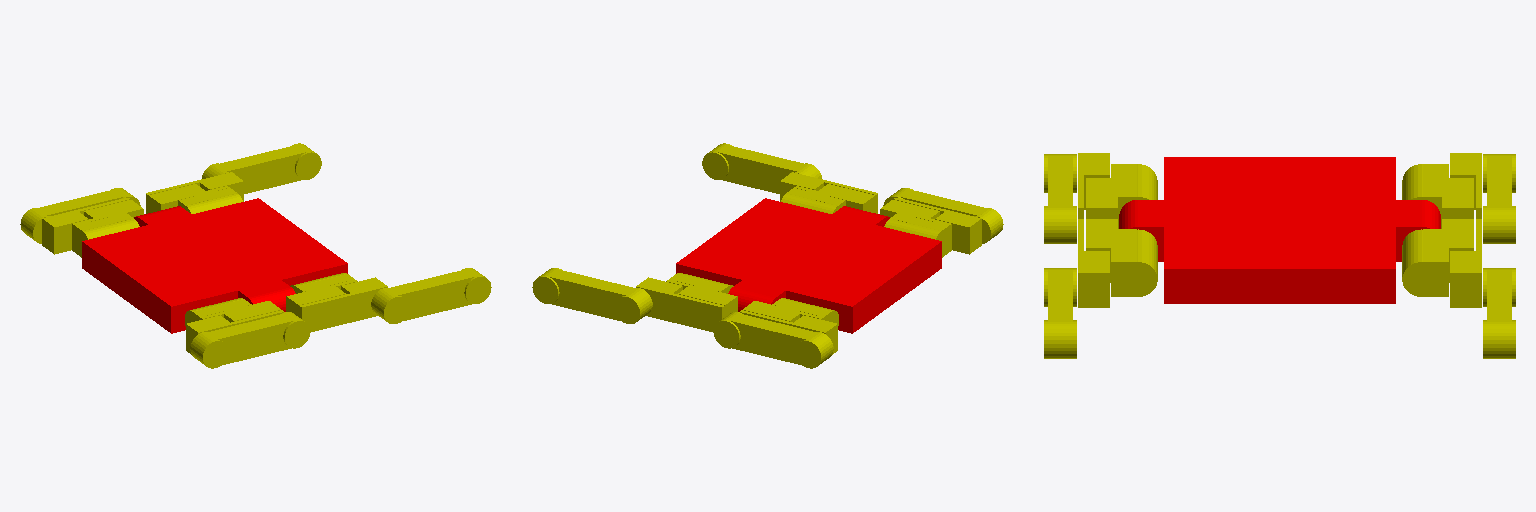
--- Render facts (derived) ---
The picture shows the robot from 3 angles, left to right: view 1: azimuth 30°, elevation 25°; view 2: azimuth 150°, elevation 25°; view 3: azimuth 270°, elevation 25°; orthographic projection.
Robot: cricket_robot — 46 links, 45 joints (4 revolute, 20 continuous, 21 fixed); root link base_link; default pose: every joint at zero.
Visible links, largest first — view 1: base_link, l_front_track, l_back_track, r_front_track, l_front_knee_base, r_back_knee_box, l_front_knee_box, r_back_track, r_front_shoulder2_box, l_back_starts_track, l_front_starts_track, l_front_shoulder2_box (+10 smaller); view 2: base_link, r_front_track, r_back_track, l_front_track, r_front_knee_base, l_back_knee_box, r_front_knee_box, l_back_track, l_front_shoulder2_box, r_back_starts_track, r_front_starts_track, r_front_shoulder2_box (+10 smaller); view 3: base_link, r_front_knee_box, l_front_knee_box, r_front_shoulder_cylinder, l_front_shoulder_cylinder, r_back_shoulder2_box, l_back_shoulder2_box, r_front_track, r_back_track, l_front_track, l_back_track, r_front_ends_track (+15 smaller).
Boxes of the visible links, x1=… form: base_link: x1=82, y1=198, x2=347, y2=333; l_front_track: x1=386, y1=269, x2=475, y2=320; l_back_track: x1=205, y1=313, x2=295, y2=365; r_front_track: x1=216, y1=145, x2=306, y2=193; l_front_knee_base: x1=299, y1=293, x2=353, y2=332; r_back_knee_box: x1=42, y1=210, x2=88, y2=254; l_front_knee_box: x1=341, y1=277, x2=387, y2=321; r_back_track: x1=36, y1=189, x2=125, y2=215; r_front_shoulder2_box: x1=148, y1=184, x2=207, y2=212; l_back_starts_track: x1=190, y1=332, x2=228, y2=368; l_front_starts_track: x1=371, y1=288, x2=409, y2=323; l_front_shoulder2_box: x1=286, y1=285, x2=345, y2=316; base_link: x1=676, y1=198, x2=941, y2=333; r_front_track: x1=548, y1=269, x2=637, y2=320; r_back_track: x1=728, y1=313, x2=818, y2=365; l_front_track: x1=717, y1=145, x2=807, y2=193; r_front_knee_base: x1=670, y1=293, x2=724, y2=332; l_back_knee_box: x1=935, y1=210, x2=981, y2=254; r_front_knee_box: x1=636, y1=277, x2=682, y2=321; l_back_track: x1=898, y1=189, x2=987, y2=215; l_front_shoulder2_box: x1=816, y1=184, x2=875, y2=212; r_back_starts_track: x1=795, y1=332, x2=833, y2=368; r_front_starts_track: x1=614, y1=288, x2=652, y2=323; r_front_shoulder2_box: x1=678, y1=285, x2=737, y2=316; base_link: x1=1164, y1=157, x2=1395, y2=303; r_front_knee_box: x1=1450, y1=251, x2=1481, y2=307; l_front_knee_box: x1=1078, y1=251, x2=1109, y2=307; r_front_shoulder_cylinder: x1=1402, y1=229, x2=1440, y2=296; l_front_shoulder_cylinder: x1=1119, y1=229, x2=1157, y2=296; r_back_shoulder2_box: x1=1442, y1=178, x2=1473, y2=218; l_back_shoulder2_box: x1=1086, y1=178, x2=1117, y2=218; r_front_track: x1=1487, y1=270, x2=1511, y2=321; r_back_track: x1=1487, y1=156, x2=1511, y2=207; l_front_track: x1=1048, y1=270, x2=1072, y2=321; l_back_track: x1=1048, y1=156, x2=1072, y2=207; r_front_ends_track: x1=1483, y1=320, x2=1515, y2=358.
Size in the robot's own frame: 0.67 by 0.732 by 0.06 metres.
Geometry: primitives only (box / cylinder / sphere), no mesh files.

URDF robot description (cricket_robot):
<?xml version="1.0" encoding="utf-8"?>
<!-- =================================================================================== -->
<!-- |    This document was autogenerated by xacro from cricket_robot.urdf.xacro       | -->
<!-- |    EDITING THIS FILE BY HAND IS NOT RECOMMENDED                                 | -->
<!-- =================================================================================== -->
<robot name="cricket_robot" xmlns:controller="http://playerstage.sourceforge.net/gazebo/xmlschema/#controller" xmlns:interface="http://playerstage.sourceforge.net/gazebo/xmlschema/#interface" xmlns:sensor="http://playerstage.sourceforge.net/gazebo/xmlschema/#sensor">
  <!-- xmlns:xacro="http://ros.org/wiki/xacro"> -->
  <material name="yellow">
    <color rgba="0.8 0.8 0 1"/>
  </material>
  <material name="red">
    <color rgba="1 0 0 1"/>
  </material>
  <!-- main body -->
  <link name="base_link">
    <visual>
      <geometry>
        <box size="0.41 0.36 0.06"/>
      </geometry>
      <material name="red"/>
    </visual>
    <collision>
      <geometry>
        <box size="0.41 0.36 0.06"/>
      </geometry>
    </collision>
  </link>
  <link name="dummy_link">
    <visual name="">
      <origin rpy="0.0 0.0 0.0" xyz="0.0 0.0 0.0"/>
      <geometry>
        <box size="0.41 0.36 0.06"/>
      </geometry>
      <material name="red"/>
    </visual>
    <collision>
      <origin rpy="0.0 0.0 0.0" xyz="0.0 0.0 0.0"/>
      <geometry>
        <box size="0.0 0.0 0.0"/>
      </geometry>
    </collision>
    <inertial>
      <mass value="10"/>
      <inertia ixx="1.0" ixy="0.0" ixz="0.0" iyy="1.0" iyz="0.0" izz="1.0"/>
    </inertial>
  </link>
  <joint name="dummy_joint" type="fixed">
    <origin rpy="0.0 0.0 0.0" xyz="0.0 0.0 0.0"/>
    <parent link="base_link"/>
    <child link="dummy_link"/>
    <axis xyz="0.0 0.0 0.0"/>
  </joint>
  <!-- ###################### -->
  <!-- #####  BODY  BOX ##### -->
  <!-- ###################### -->
  <link name="right_box">
    <visual>
      <geometry>
        <box size="0.1 0.04 0.06"/>
      </geometry>
      <material name="red"/>
    </visual>
    <collision>
      <geometry>
        <box size="0.1 0.04 0.06"/>
      </geometry>
    </collision>
  </link>
  <joint name="body_to_right_box" type="fixed">
    <parent link="base_link"/>
    <child link="right_box"/>
    <origin xyz="0.0 0.2 0.0"/>
  </joint>
  <link name="right_cylinder">
    <visual name="right_cylinder">
      <origin rpy="0 1.57075 0" xyz="0 0.0 0"/>
      <geometry>
        <cylinder length="0.1" radius="0.03"/>
      </geometry>
      <material name="red"/>
    </visual>
    <collision>
      <origin rpy="0 1.57075 0" xyz="0 0.0 0"/>
      <geometry>
        <cylinder length="0.1" radius="0.03"/>
      </geometry>
    </collision>
    <inertial>
      <mass value="0.5"/>
      <inertia ixx="1.0" ixy="0.0" ixz="0.0" iyy="1.0" iyz="0.0" izz="1.0"/>
    </inertial>
  </link>
  <joint name="right_box_to_cylinder" type="fixed">
    <parent link="right_box"/>
    <child link="right_cylinder"/>
    <origin rpy="0.0 0.0 0.0" xyz="0.0 0.02 0.0"/>
  </joint>
  <link name="left_box">
    <visual>
      <geometry>
        <box size="0.1 0.04 0.06"/>
      </geometry>
      <material name="red"/>
    </visual>
    <collision>
      <geometry>
        <box size="0.1 0.04 0.06"/>
      </geometry>
    </collision>
  </link>
  <joint name="body_to_left_box" type="fixed">
    <parent link="base_link"/>
    <child link="left_box"/>
    <origin xyz="0.0 -0.2 0.0"/>
  </joint>
  <link name="left_cylinder">
    <visual name="left_cylinder">
      <origin rpy="0 1.57075 0" xyz="0 0.0 0"/>
      <geometry>
        <cylinder length="0.1" radius="0.03"/>
      </geometry>
      <material name="red"/>
    </visual>
    <collision>
      <origin rpy="0 1.57075 0" xyz="0 0.0 0"/>
      <geometry>
        <cylinder length="0.1" radius="0.03"/>
      </geometry>
    </collision>
    <inertial>
      <mass value="0.5"/>
      <inertia ixx="1.0" ixy="0.0" ixz="0.0" iyy="1.0" iyz="0.0" izz="1.0"/>
    </inertial>
  </link>
  <joint name="left_box_to_cylinder" type="fixed">
    <parent link="left_box"/>
    <child link="left_cylinder"/>
    <origin rpy="0.0 0.0 0.0" xyz="0.0 -0.02 0.0"/>
  </joint>
  <!-- ###################### -->
  <!-- ##### RIGHT LEGS ##### -->
  <!-- ###################### -->
  <!-- SHOULDER 1 -->
  <link name="r_front_shoulder_cylinder">
    <visual name="r_front_shoulder_cylinder">
      <origin rpy="0 1.57075 0" xyz="0.0 0.0 0"/>
      <geometry>
        <cylinder length="0.12" radius="0.03"/>
      </geometry>
      <material name="yellow"/>
    </visual>
    <collision>
      <origin rpy="0 1.57075 0" xyz="0.0 0.0 0"/>
      <geometry>
        <cylinder length="0.12" radius="0.03"/>
      </geometry>
    </collision>
    <inertial>
      <mass value="0.5"/>
      <inertia ixx="1.0" ixy="0.0" ixz="0.0" iyy="1.0" iyz="0.0" izz="1.0"/>
    </inertial>
  </link>
  <joint name="r_front_shoulder_to_body" type="revolute">
    <axis xyz="1 0.0 0.0"/>
    <limit effort="1000.0" lower="-1.57075" upper="1.57075" velocity="0.5"/>
    <origin rpy="0 0 0.0" xyz="0.12 0.0 0.0"/>
    <parent link="right_cylinder"/>
    <child link="r_front_shoulder_cylinder"/>
    <limit effort="30" velocity="1.0"/>
    <dynamics damping="0.0" friction="0.0"/>
  </joint>
  <transmission name="r_front_shoulder_to_body_trans">
    <type>transmission_interface/SimpleTransmission</type>
    <actuator name="front_r_shoulder_to_body_motor">
      <mechanicalReduction>1</mechanicalReduction>
    </actuator>
    <joint name="r_front_shoulder_to_body">
      <hardwareInterface>hardware_interface/PositionJointInterface</hardwareInterface>
    </joint>
  </transmission>
  <link name="r_front_shoulder_box">
    <visual name="r_front_shoulder_box">
      <origin rpy="0 0 0" xyz="-0.05 -0.0005 0"/>
      <geometry>
        <box size="0.12 0.03 0.06"/>
      </geometry>
      <material name="yellow"/>
    </visual>
    <collision>
      <origin rpy="0 0 0" xyz="-0.05 -0.0005 0"/>
      <geometry>
        <box size="0.12 0.03 0.06"/>
      </geometry>
    </collision>
    <inertial>
      <mass value="3.5"/>
      <inertia ixx="1.0" ixy="0.0" ixz="0.0" iyy="1.0" iyz="0.0" izz="1.0"/>
    </inertial>
  </link>
  <joint name="r_front_shoulder_cyl_to_box" type="fixed">
    <origin rpy="0.0 0.0 0.0" xyz="0.05 0.017 0.0"/>
    <parent link="r_front_shoulder_cylinder"/>
    <child link="r_front_shoulder_box"/>
  </joint>
  <!-- SHOULDER 2 -->
  <link name="r_front_shoulder2_base">
    <visual name="r_front_shoulder2_base">
      <origin rpy="0.0 0.0 0.0" xyz="-0.015 0.0 0.0"/>
      <geometry>
        <box size="0.05 0.01 0.06"/>
      </geometry>
      <material name="yellow"/>
    </visual>
    <collision>
      <origin rpy="0.0 0.0 0.0" xyz="-0.015 0.0 0.0"/>
      <geometry>
        <box size="0.05 0.01 0.06"/>
      </geometry>
    </collision>
    <inertial>
      <mass value="0.5"/>
      <inertia ixx="1.0" ixy="0.0" ixz="0.0" iyy="1.0" iyz="0.0" izz="1.0"/>
    </inertial>
  </link>
  <joint name="r_front_shoulder2_to_shoulder" type="continuous">
    <axis xyz="0.0 1 0.0"/>
    <origin rpy="0.0 0.0 0.0" xyz="0.0 0.02 0.0"/>
    <parent link="r_front_shoulder_box"/>
    <child link="r_front_shoulder2_base"/>
    <limit effort="30" velocity="1.0"/>
    <dynamics damping="0.0" friction="0.0"/>
  </joint>
  <transmission name="r_front_shoulder2_to_shoulder_trans">
    <type>transmission_interface/SimpleTransmission</type>
    <actuator name="front_$_shoulder2_to_shoulder_motor">
      <mechanicalReduction>1</mechanicalReduction>
    </actuator>
    <joint name="r_front_shoulder2_to_shoulder">
      <hardwareInterface>hardware_interface/PositionJointInterface</hardwareInterface>
    </joint>
  </transmission>
  <link name="r_front_shoulder2_box">
    <visual name="r_front_shoulder2_box">
      <origin rpy="0.0 0.0 0.0" xyz="0.045 0.02 0.0"/>
      <geometry>
        <box size="0.11 0.05 0.06"/>
      </geometry>
      <material name="yellow"/>
    </visual>
    <collision>
      <origin rpy="0.0 0.0 0.0" xyz="0.045 0.02 0.0"/>
      <geometry>
        <box size="0.11 0.05 0.06"/>
      </geometry>
    </collision>
    <inertial>
      <mass value="3"/>
      <inertia ixx="1.0" ixy="0.0" ixz="0.0" iyy="1.0" iyz="0.0" izz="1.0"/>
    </inertial>
  </link>
  <joint name="r_front_shoulder2_base_to_box" type="fixed">
    <origin rpy="0.0 0.0 0.0" xyz="-0.14 0.0 0.0"/>
    <parent link="r_front_shoulder2_base"/>
    <child link="r_front_shoulder2_box"/>
  </joint>
  <!-- KNEE -->
  <link name="r_front_knee_base">
    <visual name="r_front_knee_base">
      <origin rpy="0.0 0.0 0.0" xyz="0.05 0.0 0.0"/>
      <geometry>
        <box size="0.12 0.01 0.06"/>
      </geometry>
      <material name="yellow"/>
    </visual>
    <collision>
      <origin rpy="0.0 0.0 0.0" xyz="0.05 0.0 0.0"/>
      <geometry>
        <box size="0.12 0.01 0.06"/>
      </geometry>
    </collision>
    <inertial>
      <mass value="0.5"/>
      <inertia ixx="1.0" ixy="0.0" ixz="0.0" iyy="1.0" iyz="0.0" izz="1.0"/>
    </inertial>
  </link>
  <joint name="r_front_shoulder2_to_knee" type="continuous">
    <axis xyz="0.0 1 0.0"/>
    <origin rpy="0.0 0.0 0.0" xyz="0.0 0.052 0.0"/>
    <parent link="r_front_shoulder2_box"/>
    <child link="r_front_knee_base"/>
    <limit effort="30" velocity="1.0"/>
    <dynamics damping="0.0" friction="0.0"/>
  </joint>
  <transmission name="r_front_shoulder2_to_knee_trans">
    <type>transmission_interface/SimpleTransmission</type>
    <actuator name="front_r_shoulder2_to_knee_motor">
      <mechanicalReduction>1</mechanicalReduction>
    </actuator>
    <joint name="r_front_shoulder2_to_knee">
      <hardwareInterface>hardware_interface/PositionJointInterface</hardwareInterface>
    </joint>
  </transmission>
  <link name="r_front_knee_box">
    <visual name="r_front_knee_box">
      <origin rpy="0.0 0.0 0.0" xyz="-0.03 -0.02 0.0"/>
      <geometry>
        <box size="0.08 0.05 0.06"/>
      </geometry>
      <material name="yellow"/>
    </visual>
    <collision>
      <origin rpy="0.0 0.0 0.0" xyz="-0.03 -0.02 0.0"/>
      <geometry>
        <box size="0.08 0.05 0.06"/>
      </geometry>
    </collision>
    <inertial>
      <mass value="3.5"/>
      <inertia ixx="1.0" ixy="0.0" ixz="0.0" iyy="1.0" iyz="0.0" izz="1.0"/>
    </inertial>
  </link>
  <joint name="r_front_knee_base_to_box" type="fixed">
    <origin rpy="0.0 0.0 0.0" xyz="0.18 0.0 0.0"/>
    <parent link="r_front_knee_base"/>
    <child link="r_front_knee_box"/>
  </joint>
  <!-- ANKLE & TRACK -->
  <link name="r_front_jointed_track">
    <visual name="r_front_jointed_track">
      <origin rpy="0.0 1.57075 1.57075" xyz="0.0 0.0 0.0"/>
      <geometry>
        <cylinder length="0.05" radius="0.015"/>
      </geometry>
      <material name="yellow"/>
    </visual>
    <collision>
      <origin rpy="0.0 1.57075 1.57075" xyz="0.0 0.0 0.0"/>
      <geometry>
        <cylinder length="0.05" radius="0.015"/>
      </geometry>
    </collision>
    <inertial>
      <mass value="0.5"/>
      <inertia ixx="1.0" ixy="0.0" ixz="0.0" iyy="1.0" iyz="0.0" izz="1.0"/>
    </inertial>
  </link>
  <joint name="r_front_ankle" type="continuous">
    <axis xyz="0.0 1 0.0"/>
    <origin rpy="0.0 0.0 0.0" xyz="0.0 0.032 0.0"/>
    <parent link="r_front_knee_box"/>
    <child link="r_front_jointed_track"/>
    <limit effort="30" velocity="1.0"/>
    <dynamics damping="0.0" friction="0.0"/>
  </joint>
  <transmission name="r_front_ankle_trans">
    <type>transmission_interface/SimpleTransmission</type>
    <actuator name="front_r_ankle_motor">
      <mechanicalReduction>1</mechanicalReduction>
    </actuator>
    <joint name="r_front_ankle">
      <hardwareInterface>hardware_interface/PositionJointInterface</hardwareInterface>
    </joint>
  </transmission>
  <!--wheels-->
  <link name="r_front_starts_track">
    <visual name="r_front_starts_track">
      <origin rpy="0.0 1.57075 1.57075" xyz="0.0 0.0 0.0"/>
      <geometry>
        <cylinder length="0.05" radius="0.03"/>
      </geometry>
      <material name="yellow"/>
    </visual>
    <collision>
      <origin rpy="0.0 1.57075 1.57075" xyz="0.0 0.0 0.0"/>
      <geometry>
        <cylinder length="0.05" radius="0.03"/>
      </geometry>
    </collision>
    <inertial>
      <mass value="0.5"/>
      <inertia ixx="1.0" ixy="0.0" ixz="0.0" iyy="1.0" iyz="0.0" izz="1.0"/>
    </inertial>
  </link>
  <joint name="r_front_begin_track_joint" type="continuous">
    <axis xyz="0.0 1 0.0"/>
    <origin rpy="0.0 0.0 0.0" xyz="0.0 0 0.0"/>
    <parent link="r_front_jointed_track"/>
    <child link="r_front_starts_track"/>
  </joint>
  <transmission name="r_front_begin_track_joint_trans">
    <type>transmission_interface/SimpleTransmission</type>
    <actuator name="front_r_begin_track_joint_motor">
      <mechanicalReduction>1</mechanicalReduction>
    </actuator>
    <joint name="r_front_begin_track_joint">
      <hardwareInterface>hardware_interface/PositionJointInterface</hardwareInterface>
    </joint>
  </transmission>
  <gazebo reference="r_front_starts_track">
    <mu1 value="200.0"/>
    <mu2 value="100.0"/>
    <kp value="10000000.0"/>
    <kd value="1.0"/>
    <material>Gazebo/Grey</material>
  </gazebo>
  <link name="r_front_track">
    <!-- Between the two wheels -->
    <visual name="r_front_track">
      <origin rpy="0.0 0.0 0.0" xyz="0.0 0.0 0.0"/>
      <geometry>
        <box size="0.190 0.04 0.06"/>
      </geometry>
      <material name="yellow"/>
    </visual>
    <collision>
      <origin rpy="0.0 0.0 0.0" xyz="0.0 0.0 0.0"/>
      <geometry>
        <box size="0.190 0.04 0.06"/>
      </geometry>
    </collision>
    <inertial>
      <mass value="4"/>
      <inertia ixx="1.0" ixy="0.0" ixz="0.0" iyy="1.0" iyz="0.0" izz="1.0"/>
    </inertial>
  </link>
  <joint name="r_front_jointed_track_to_track" type="fixed">
    <origin rpy="0.0 0.0 0.0" xyz="0.095 0.0 0.0"/>
    <parent link="r_front_jointed_track"/>
    <child link="r_front_track"/>
  </joint>
  <link name="r_front_ends_track">
    <visual name="r_front_ends_track">
      <origin rpy="0.0 1.57075 1.57075" xyz="0.0 0.0 0.0"/>
      <geometry>
        <cylinder length="0.05" radius="0.03"/>
      </geometry>
      <material name="yellow"/>
    </visual>
    <collision>
      <origin rpy="0.0 1.57075 1.57075" xyz="0.0 0.0 0.0"/>
      <geometry>
        <cylinder length="0.05" radius="0.03"/>
      </geometry>
    </collision>
    <inertial>
      <mass value="0.5"/>
      <inertia ixx="1.0" ixy="0.0" ixz="0.0" iyy="1.0" iyz="0.0" izz="1.0"/>
    </inertial>
  </link>
  <joint name="r_front_final_track_joint" type="continuous">
    <axis xyz="0.0 1 0.0"/>
    <origin rpy="0.0 0.0 0.0" xyz="0.095 0.0 0.0"/>
    <parent link="r_front_track"/>
    <child link="r_front_ends_track"/>
    <limit effort="30" velocity="1.0"/>
    <dynamics damping="0.0" friction="0.0"/>
  </joint>
  <transmission name="r_front_final_track_joint_trans">
    <type>transmission_interface/SimpleTransmission</type>
    <actuator name="front_r_final_track_joint_motor">
      <mechanicalReduction>1</mechanicalReduction>
    </actuator>
    <joint name="r_front_final_track_joint">
      <hardwareInterface>hardware_interface/VelocityJointInterface</hardwareInterface>
    </joint>
  </transmission>
  <gazebo reference="r_front_ends_track">
    <mu1 value="200.0"/>
    <mu2 value="100.0"/>
    <kp value="10000000.0"/>
    <kd value="1.0"/>
    <material>Gazebo/Grey</material>
  </gazebo>
  <!-- SHOULDER 1 -->
  <link name="r_back_shoulder_cylinder">
    <visual name="r_back_shoulder_cylinder">
      <origin rpy="0 1.57075 0" xyz="0.0 0.0 0"/>
      <geometry>
        <cylinder length="0.12" radius="0.03"/>
      </geometry>
      <material name="yellow"/>
    </visual>
    <collision>
      <origin rpy="0 1.57075 0" xyz="0.0 0.0 0"/>
      <geometry>
        <cylinder length="0.12" radius="0.03"/>
      </geometry>
    </collision>
    <inertial>
      <mass value="0.5"/>
      <inertia ixx="1.0" ixy="0.0" ixz="0.0" iyy="1.0" iyz="0.0" izz="1.0"/>
    </inertial>
  </link>
  <joint name="r_back_shoulder_to_body" type="revolute">
    <axis xyz="1 0.0 0.0"/>
    <limit effort="1000.0" lower="-1.57075" upper="1.57075" velocity="0.5"/>
    <origin rpy="0 0 0.0" xyz="-0.12 0.0 0.0"/>
    <parent link="right_cylinder"/>
    <child link="r_back_shoulder_cylinder"/>
    <limit effort="30" velocity="1.0"/>
    <dynamics damping="0.0" friction="0.0"/>
  </joint>
  <transmission name="r_back_shoulder_to_body_trans">
    <type>transmission_interface/SimpleTransmission</type>
    <actuator name="back_r_shoulder_to_body_motor">
      <mechanicalReduction>1</mechanicalReduction>
    </actuator>
    <joint name="r_back_shoulder_to_body">
      <hardwareInterface>hardware_interface/PositionJointInterface</hardwareInterface>
    </joint>
  </transmission>
  <link name="r_back_shoulder_box">
    <visual name="r_back_shoulder_box">
      <origin rpy="0 0 0" xyz="0.05 -0.0005 0"/>
      <geometry>
        <box size="0.12 0.03 0.06"/>
      </geometry>
      <material name="yellow"/>
    </visual>
    <collision>
      <origin rpy="0 0 0" xyz="0.05 -0.0005 0"/>
      <geometry>
        <box size="0.12 0.03 0.06"/>
      </geometry>
    </collision>
    <inertial>
      <mass value="3.5"/>
      <inertia ixx="1.0" ixy="0.0" ixz="0.0" iyy="1.0" iyz="0.0" izz="1.0"/>
    </inertial>
  </link>
  <joint name="r_back_shoulder_cyl_to_box" type="fixed">
    <origin rpy="0.0 0.0 0.0" xyz="-0.05 0.017 0.0"/>
    <parent link="r_back_shoulder_cylinder"/>
    <child link="r_back_shoulder_box"/>
  </joint>
  <!-- SHOULDER 2 -->
  <link name="r_back_shoulder2_base">
    <visual name="r_back_shoulder2_base">
      <origin rpy="0.0 0.0 0.0" xyz="0.015 0.0 0.0"/>
      <geometry>
        <box size="0.05 0.01 0.06"/>
      </geometry>
      <material name="yellow"/>
    </visual>
    <collision>
      <origin rpy="0.0 0.0 0.0" xyz="0.015 0.0 0.0"/>
      <geometry>
        <box size="0.05 0.01 0.06"/>
      </geometry>
    </collision>
    <inertial>
      <mass value="0.5"/>
      <inertia ixx="1.0" ixy="0.0" ixz="0.0" iyy="1.0" iyz="0.0" izz="1.0"/>
    </inertial>
  </link>
  <joint name="r_back_shoulder2_to_shoulder" type="continuous">
    <axis xyz="0.0 1 0.0"/>
    <origin rpy="0.0 0.0 0.0" xyz="0.0 0.02 0.0"/>
    <parent link="r_back_shoulder_box"/>
    <child link="r_back_shoulder2_base"/>
    <limit effort="30" velocity="1.0"/>
    <dynamics damping="0.0" friction="0.0"/>
  </joint>
  <transmission name="r_back_shoulder2_to_shoulder_trans">
    <type>transmission_interface/SimpleTransmission</type>
    <actuator name="back_$_shoulder2_to_shoulder_motor">
      <mechanicalReduction>1</mechanicalReduction>
    </actuator>
    <joint name="r_back_shoulder2_to_shoulder">
      <hardwareInterface>hardware_interface/PositionJointInterface</hardwareInterface>
    </joint>
  </transmission>
  <link name="r_back_shoulder2_box">
    <visual name="r_back_shoulder2_box">
      <origin rpy="0.0 0.0 0.0" xyz="-0.045 0.02 0.0"/>
      <geometry>
        <box size="0.11 0.05 0.06"/>
      </geometry>
      <material name="yellow"/>
    </visual>
    <collision>
      <origin rpy="0.0 0.0 0.0" xyz="-0.045 0.02 0.0"/>
      <geometry>
        <box size="0.11 0.05 0.06"/>
      </geometry>
    </collision>
    <inertial>
      <mass value="3"/>
      <inertia ixx="1.0" ixy="0.0" ixz="0.0" iyy="1.0" iyz="0.0" izz="1.0"/>
    </inertial>
  </link>
  <joint name="r_back_shoulder2_base_to_box" type="fixed">
    <origin rpy="0.0 0.0 0.0" xyz="0.14 0.0 0.0"/>
    <parent link="r_back_shoulder2_base"/>
    <child link="r_back_shoulder2_box"/>
  </joint>
  <!-- KNEE -->
  <link name="r_back_knee_base">
    <visual name="r_back_knee_base">
      <origin rpy="0.0 0.0 0.0" xyz="-0.05 0.0 0.0"/>
      <geometry>
        <box size="0.12 0.01 0.06"/>
      </geometry>
      <material name="yellow"/>
    </visual>
    <collision>
      <origin rpy="0.0 0.0 0.0" xyz="-0.05 0.0 0.0"/>
      <geometry>
        <box size="0.12 0.01 0.06"/>
      </geometry>
    </collision>
    <inertial>
      <mass value="0.5"/>
      <inertia ixx="1.0" ixy="0.0" ixz="0.0" iyy="1.0" iyz="0.0" izz="1.0"/>
    </inertial>
  </link>
  <joint name="r_back_shoulder2_to_knee" type="continuous">
    <axis xyz="0.0 1 0.0"/>
    <origin rpy="0.0 0.0 0.0" xyz="0.0 0.052 0.0"/>
    <parent link="r_back_shoulder2_box"/>
    <child link="r_back_knee_base"/>
    <limit effort="30" velocity="1.0"/>
    <dynamics damping="0.0" friction="0.0"/>
  </joint>
  <transmission name="r_back_shoulder2_to_knee_trans">
    <type>transmission_interface/SimpleTransmission</type>
    <actuator name="back_r_shoulder2_to_knee_motor">
      <mechanicalReduction>1</mechanicalReduction>
    </actuator>
    <joint name="r_back_shoulder2_to_knee">
      <hardwareInterface>hardware_interface/PositionJointInterface</hardwareInterface>
    </joint>
  </transmission>
  <link name="r_back_knee_box">
    <visual name="r_back_knee_box">
      <origin rpy="0.0 0.0 0.0" xyz="0.03 -0.02 0.0"/>
      <geometry>
        <box size="0.08 0.05 0.06"/>
      </geometry>
      <material name="yellow"/>
    </visual>
    <collision>
      <origin rpy="0.0 0.0 0.0" xyz="0.03 -0.02 0.0"/>
      <geometry>
        <box size="0.08 0.05 0.06"/>
      </geometry>
    </collision>
    <inertial>
      <mass value="3.5"/>
      <inertia ixx="1.0" ixy="0.0" ixz="0.0" iyy="1.0" iyz="0.0" izz="1.0"/>
    </inertial>
  </link>
  <joint name="r_back_knee_base_to_box" type="fixed">
    <origin rpy="0.0 0.0 0.0" xyz="-0.18 0.0 0.0"/>
    <parent link="r_back_knee_base"/>
    <child link="r_back_knee_box"/>
  </joint>
  <!-- ANKLE & TRACK -->
  <link name="r_back_jointed_track">
    <visual name="r_back_jointed_track">
      <origin rpy="0.0 1.57075 1.57075" xyz="0.0 0.0 0.0"/>
      <geometry>
        <cylinder length="0.05" radius="0.015"/>
      </geometry>
      <material name="yellow"/>
    </visual>
    <collision>
      <origin rpy="0.0 1.57075 1.57075" xyz="0.0 0.0 0.0"/>
      <geometry>
        <cylinder length="0.05" radius="0.015"/>
      </geometry>
    </collision>
    <inertial>
      <mass value="0.5"/>
      <inertia ixx="1.0" ixy="0.0" ixz="0.0" iyy="1.0" iyz="0.0" izz="1.0"/>
    </inertial>
  </link>
  <joint name="r_back_ankle" type="continuous">
    <axis xyz="0.0 1 0.0"/>
    <origin rpy="0.0 0.0 0.0" xyz="0.0 0.032 0.0"/>
    <parent link="r_back_knee_box"/>
    <child link="r_back_jointed_track"/>
    <limit effort="30" velocity="1.0"/>
    <dynamics damping="0.0" friction="0.0"/>
  </joint>
  <transmission name="r_back_ankle_trans">
    <type>transmission_interface/SimpleTransmission</type>
    <actuator name="back_r_ankle_motor">
      <mechanicalReduction>1</mechanicalReduction>
    </actuator>
    <joint name="r_back_ankle">
      <hardwareInterface>hardware_interface/PositionJointInterface</hardwareInterface>
    </joint>
  </transmission>
  <!--wheels-->
  <link name="r_back_starts_track">
    <visual name="r_back_starts_track">
      <origin rpy="0.0 1.57075 1.57075" xyz="0.0 0.0 0.0"/>
      <geometry>
        <cylinder length="0.05" radius="0.03"/>
      </geometry>
      <material name="yellow"/>
    </visual>
    <collision>
      <origin rpy="0.0 1.57075 1.57075" xyz="0.0 0.0 0.0"/>
      <geometry>
        <cylinder length="0.05" radius="0.03"/>
      </geometry>
    </collision>
    <inertial>
      <mass value="0.5"/>
      <inertia ixx="1.0" ixy="0.0" ixz="0.0" iyy="1.0" iyz="0.0" izz="1.0"/>
    </inertial>
  </link>
  <joint name="r_back_begin_track_joint" type="continuous">
    <axis xyz="0.0 1 0.0"/>
    <origin rpy="0.0 0.0 0.0" xyz="0.0 0 0.0"/>
    <parent link="r_back_jointed_track"/>
    <child link="r_back_starts_track"/>
  </joint>
  <transmission name="r_back_begin_track_joint_trans">
    <type>transmission_interface/SimpleTransmission</type>
    <actuator name="back_r_begin_track_joint_motor">
      <mechanicalReduction>1</mechanicalReduction>
    </actuator>
    <joint name="r_back_begin_track_joint">
      <hardwareInterface>hardware_interface/PositionJointInterface</hardwareInterface>
    </joint>
  </transmission>
  <gazebo reference="r_back_starts_track">
    <mu1 value="200.0"/>
    <mu2 value="100.0"/>
    <kp value="10000000.0"/>
    <kd value="1.0"/>
    <material>Gazebo/Grey</material>
  </gazebo>
  <link name="r_back_track">
    <!-- Between the two wheels -->
    <visual name="r_back_track">
      <origin rpy="0.0 0.0 0.0" xyz="0.0 0.0 0.0"/>
      <geometry>
        <box size="0.190 0.04 0.06"/>
      </geometry>
      <material name="yellow"/>
    </visual>
    <collision>
      <origin rpy="0.0 0.0 0.0" xyz="0.0 0.0 0.0"/>
      <geometry>
        <box size="0.190 0.04 0.06"/>
      </geometry>
    </collision>
    <inertial>
      <mass value="4"/>
      <inertia ixx="1.0" ixy="0.0" ixz="0.0" iyy="1.0" iyz="0.0" izz="1.0"/>
    </inertial>
  </link>
  <joint name="r_back_jointed_track_to_track" type="fixed">
    <origin rpy="0.0 3.1415 0.0" xyz="0.095 0.0 0.0"/>
    <parent link="r_back_jointed_track"/>
    <child link="r_back_track"/>
  </joint>
  <link name="r_back_ends_track">
    <visual name="r_back_ends_track">
      <origin rpy="0.0 1.57075 1.57075" xyz="0.0 0.0 0.0"/>
      <geometry>
        <cylinder length="0.05" radius="0.03"/>
      </geometry>
      <material name="yellow"/>
    </visual>
    <collision>
      <origin rpy="0.0 1.57075 1.57075" xyz="0.0 0.0 0.0"/>
      <geometry>
        <cylinder length="0.05" radius="0.03"/>
      </geometry>
    </collision>
    <inertial>
      <mass value="0.5"/>
      <inertia ixx="1.0" ixy="0.0" ixz="0.0" iyy="1.0" iyz="0.0" izz="1.0"/>
    </inertial>
  </link>
  <joint name="r_back_final_track_joint" type="continuous">
    <axis xyz="0.0 1 0.0"/>
    <origin rpy="0.0 0.0 0.0" xyz="-0.095 0.0 0.0"/>
    <parent link="r_back_track"/>
    <child link="r_back_ends_track"/>
    <limit effort="30" velocity="1.0"/>
    <dynamics damping="0.0" friction="0.0"/>
  </joint>
  <transmission name="r_back_final_track_joint_trans">
    <type>transmission_interface/SimpleTransmission</type>
    <actuator name="back_r_final_track_joint_motor">
      <mechanicalReduction>1</mechanicalReduction>
    </actuator>
    <joint name="r_back_final_track_joint">
      <hardwareInterface>hardware_interface/VelocityJointInterface</hardwareInterface>
    </joint>
  </transmission>
  <gazebo reference="r_back_ends_track">
    <mu1 value="200.0"/>
    <mu2 value="100.0"/>
    <kp value="10000000.0"/>
    <kd value="1.0"/>
    <material>Gazebo/Grey</material>
  </gazebo>
  <!-- ###################### -->
  <!-- ##### LEFT LEGS ###### -->
  <!-- ###################### -->
  <!-- SHOULDER 1 -->
  <link name="l_front_shoulder_cylinder">
    <visual name="l_front_shoulder_cylinder">
      <origin rpy="0 1.57075 0" xyz="0.0 0.0 0"/>
      <geometry>
        <cylinder length="0.12" radius="0.03"/>
      </geometry>
      <material name="yellow"/>
    </visual>
    <collision>
      <origin rpy="0 1.57075 0" xyz="0.0 0.0 0"/>
      <geometry>
        <cylinder length="0.12" radius="0.03"/>
      </geometry>
    </collision>
    <inertial>
      <mass value="3.5"/>
      <inertia ixx="1.0" ixy="0.0" ixz="0.0" iyy="1.0" iyz="0.0" izz="1.0"/>
    </inertial>
  </link>
  <joint name="l_front_shoulder_to_body" type="revolute">
    <axis xyz="1 0.0 0.0"/>
    <limit effort="1000.0" lower="-1.57075" upper="1.57075" velocity="0.5"/>
    <origin rpy="0 0 0.0" xyz="0.12 0.0 0.0"/>
    <parent link="left_cylinder"/>
    <child link="l_front_shoulder_cylinder"/>
    <limit effort="30" velocity="1.0"/>
  </joint>
  <transmission name="l_front_shoulder_to_body_trans">
    <type>transmission_interface/SimpleTransmission</type>
    <actuator name="front_l_shoulder_to_body_motor">
      <mechanicalReduction>1</mechanicalReduction>
    </actuator>
    <joint name="l_front_shoulder_to_body">
      <hardwareInterface>hardware_interface/PositionJointInterface</hardwareInterface>
    </joint>
  </transmission>
  <link name="l_front_shoulder_box">
    <visual name="l_front_shoulder_box">
      <origin rpy="0 0 0" xyz=" -0.05 0.0005 0"/>
      <geometry>
        <box size="0.12 0.03 0.06"/>
      </geometry>
      <material name="yellow"/>
    </visual>
    <collision>
      <origin rpy="0 0 0" xyz=" -0.05 0.0005 0"/>
      <geometry>
        <box size="0.12 0.03 0.06"/>
      </geometry>
    </collision>
    <inertial>
      <mass value="0.5"/>
      <inertia ixx="1.0" ixy="0.0" ixz="0.0" iyy="1.0" iyz="0.0" izz="1.0"/>
    </inertial>
  </link>
  <joint name="l_front_shoulder_cyl_to_box" type="fixed">
    <origin rpy="0.0 0.0 0.0" xyz="0.05 -0.017 0.0"/>
    <parent link="l_front_shoulder_cylinder"/>
    <child link="l_front_shoulder_box"/>
  </joint>
  <!-- SHOULDER 2  -->
  <link name="l_front_shoulder2_base">
    <visual name="l_front_shoulder2_base">
      <origin rpy="0.0 0.0 0.0" xyz="-0.015 0.0 0.0"/>
      <geometry>
        <box size="0.05 0.01 0.06"/>
      </geometry>
      <material name="yellow"/>
    </visual>
    <collision>
      <origin rpy="0.0 0.0 0.0" xyz="-0.015 0.0 0.0"/>
      <geometry>
        <box size="0.05 0.01 0.06"/>
      </geometry>
    </collision>
    <inertial>
      <mass value="0.5"/>
      <inertia ixx="1.0" ixy="0.0" ixz="0.0" iyy="1.0" iyz="0.0" izz="1.0"/>
    </inertial>
  </link>
  <joint name="l_front_shoulder2_to_shoulder" type="continuous">
    <axis xyz="0.0 1 0.0"/>
    <origin rpy="0.0 0.0 0.0" xyz="0.0 -0.02 0.0"/>
    <parent link="l_front_shoulder_box"/>
    <child link="l_front_shoulder2_base"/>
    <limit effort="30" velocity="1.0"/>
    <dynamics damping="0.0" friction="0.0"/>
  </joint>
  <transmission name="l_front_shoulder2_to_shoulder_trans">
    <type>transmission_interface/SimpleTransmission</type>
    <actuator name="front_l_shoulder2_to_shoulder_motor">
      <mechanicalReduction>1</mechanicalReduction>
    </actuator>
    <joint name="l_front_shoulder2_to_shoulder">
      <hardwareInterface>hardware_interface/PositionJointInterface</hardwareInterface>
    </joint>
  </transmission>
  <link name="l_front_shoulder2_box">
    <visual name="l_front_shoulder2_box">
      <origin rpy="0.0 0.0 0.0" xyz="0.045 -0.02 0.0"/>
      <geometry>
        <box size="0.11 0.05 0.06"/>
      </geometry>
      <material name="yellow"/>
    </visual>
    <collision>
      <origin rpy="0.0 0.0 0.0" xyz="0.045 -0.02 0.0"/>
      <geometry>
        <box size="0.11 0.05 0.06"/>
      </geometry>
    </collision>
    <inertial>
      <mass value="3"/>
      <inertia ixx="1.0" ixy="0.0" ixz="0.0" iyy="1.0" iyz="0.0" izz="1.0"/>
    </inertial>
  </link>
  <joint name="l_front_shoulder2_base_to_box" type="fixed">
    <origin rpy="0.0 0.0 0.0" xyz="-0.14 0.0 0.0"/>
    <parent link="l_front_shoulder2_base"/>
    <child link="l_front_shoulder2_box"/>
  </joint>
  <!-- KNEE -->
  <link name="l_front_knee_base">
    <visual name="l_front_knee_base">
      <origin rpy="0.0 0.0 0.0" xyz="0.05 0.0 0.0"/>
      <geometry>
        <box size="0.12 0.01 0.06"/>
      </geometry>
      <material name="yellow"/>
    </visual>
    <collision>
      <origin rpy="0.0 0.0 0.0" xyz="0.05 0.0 0.0"/>
      <geometry>
        <box size="0.12 0.01 0.06"/>
      </geometry>
    </collision>
    <inertial>
      <mass value="4"/>
      <inertia ixx="1.0" ixy="0.0" ixz="0.0" iyy="1.0" iyz="0.0" izz="1.0"/>
    </inertial>
  </link>
  <joint name="l_front_shoulder2_to_knee" type="continuous">
    <axis xyz="0.0 1 0.0"/>
    <origin rpy="0.0 0.0 0.0" xyz="0.0 -0.052 0.0"/>
    <parent link="l_front_shoulder2_box"/>
    <child link="l_front_knee_base"/>
  </joint>
  <transmission name="l_front_shoulder2_to_knee_trans">
    <type>transmission_interface/SimpleTransmission</type>
    <actuator name="front_l_shoulder2_to_knee_motor">
      <mechanicalReduction>1</mechanicalReduction>
    </actuator>
    <joint name="l_front_shoulder2_to_knee">
      <hardwareInterface>hardware_interface/PositionJointInterface</hardwareInterface>
    </joint>
  </transmission>
  <link name="l_front_knee_box">
    <visual name="l_front_knee_box">
      <origin rpy="0.0 0.0 0.0" xyz="-0.03 0.02 0.0"/>
      <geometry>
        <box size="0.08 0.05 0.06"/>
      </geometry>
      <material name="yellow"/>
    </visual>
    <collision>
      <origin rpy="0.0 0.0 0.0" xyz="-0.03 0.02 0.0"/>
      <geometry>
        <box size="0.08 0.05 0.06"/>
      </geometry>
    </collision>
    <inertial>
      <mass value="0.5"/>
      <inertia ixx="1.0" ixy="0.0" ixz="0.0" iyy="1.0" iyz="0.0" izz="1.0"/>
    </inertial>
  </link>
  <joint name="l_front_knee_base_to_box" type="fixed">
    <origin rpy="0.0 0.0 0.0" xyz="0.18 0.0 0.0"/>
    <parent link="l_front_knee_base"/>
    <child link="l_front_knee_box"/>
  </joint>
  <!-- ANKLE & TRACK -->
  <link name="l_front_jointed_track">
    <visual name="l_front_jointed_track">
      <origin rpy="0.0 1.57075 1.57075" xyz="0.0 0.0 0.0"/>
      <geometry>
        <cylinder length="0.05" radius="0.015"/>
      </geometry>
      <material name="yellow"/>
    </visual>
    <collision>
      <origin rpy="0.0 1.57075 1.57075" xyz="0.0 0.0 0.0"/>
      <geometry>
        <cylinder length="0.05" radius="0.015"/>
      </geometry>
    </collision>
    <inertial>
      <mass value="0.5"/>
      <inertia ixx="1.0" ixy="0.0" ixz="0.0" iyy="1.0" iyz="0.0" izz="1.0"/>
    </inertial>
  </link>
  <joint name="l_front_ankle" type="continuous">
    <!--For the movement of the whole track-->
    <axis xyz="0.0 1 0.0"/>
    <origin rpy="0.0 0.0 0.0" xyz="0.0 -0.032 0.0"/>
    <parent link="l_front_knee_box"/>
    <child link="l_front_jointed_track"/>
  </joint>
  <transmission name="l_front_ankle_trans">
    <type>transmission_interface/SimpleTransmission</type>
    <actuator name="front_l_ankle_motor">
      <mechanicalReduction>1</mechanicalReduction>
    </actuator>
    <joint name="l_front_ankle">
      <hardwareInterface>hardware_interface/PositionJointInterface</hardwareInterface>
    </joint>
  </transmission>
  <!--wheels-->
  <link name="l_front_starts_track">
    <visual name="l_front_starts_track">
      <origin rpy="0.0 1.57075 1.57075" xyz="0.0 0.0 0.0"/>
      <geometry>
        <cylinder length="0.05" radius="0.03"/>
      </geometry>
      <material name="yellow"/>
    </visual>
    <collision>
      <origin rpy="0.0 1.57075 1.57075" xyz="0.0 0.0 0.0"/>
      <geometry>
        <cylinder length="0.05" radius="0.03"/>
      </geometry>
    </collision>
    <inertial>
      <mass value="0.5"/>
      <inertia ixx="1.0" ixy="0.0" ixz="0.0" iyy="1.0" iyz="0.0" izz="1.0"/>
    </inertial>
  </link>
  <joint name="l_front_begin_track_joint" type="continuous">
    <axis xyz="0.0 1 0.0"/>
    <origin rpy="0.0 0.0 0.0" xyz="0.0 0 0.0"/>
    <parent link="l_front_jointed_track"/>
    <child link="l_front_starts_track"/>
  </joint>
  <transmission name="l_front_begin_track_joint_trans">
    <type>transmission_interface/SimpleTransmission</type>
    <actuator name="front_l_begin_track_joint_motor">
      <mechanicalReduction>1</mechanicalReduction>
    </actuator>
    <joint name="l_front_begin_track_joint">
      <hardwareInterface>hardware_interface/PositionJointInterface</hardwareInterface>
    </joint>
  </transmission>
  <gazebo reference="l_front_starts_track">
    <mu1 value="200.0"/>
    <mu2 value="100.0"/>
    <kp value="10000000.0"/>
    <kd value="1.0"/>
    <material>Gazebo/Grey</material>
  </gazebo>
  <link name="l_front_track">
    <!-- Between the two wheels -->
    <visual name="l_front_track">
      <origin rpy="0.0 0.0 0.0" xyz="0.0 0.0 0.0"/>
      <geometry>
        <box size="0.190 0.04 0.06"/>
      </geometry>
      <material name="yellow"/>
    </visual>
    <collision>
      <origin rpy="0.0 0.0 0.0" xyz="0.0 0.0 0.0"/>
      <geometry>
        <box size="0.190 0.04 0.06"/>
      </geometry>
    </collision>
    <inertial>
      <mass value="4.5"/>
      <inertia ixx="1.0" ixy="0.0" ixz="0.0" iyy="1.0" iyz="0.0" izz="1.0"/>
    </inertial>
  </link>
  <joint name="l_front_jointed_track_to_track" type="fixed">
    <origin rpy="0.0 0.0 0.0" xyz="0.095 0.0 0.0"/>
    <parent link="l_front_jointed_track"/>
    <child link="l_front_track"/>
  </joint>
  <link name="l_front_ends_track">
    <visual name="l_front_ends_track">
      <origin rpy="0.0 1.57075 1.57075" xyz="0.0 0.0 0.0"/>
      <geometry>
        <cylinder length="0.05" radius="0.03"/>
      </geometry>
      <material name="yellow"/>
    </visual>
    <collision>
      <origin rpy="0.0 1.57075 1.57075" xyz="0.0 0.0 0.0"/>
      <geometry>
        <cylinder length="0.05" radius="0.03"/>
      </geometry>
    </collision>
    <inertial>
      <mass value="0.5"/>
      <inertia ixx="1.0" ixy="0.0" ixz="0.0" iyy="1.0" iyz="0.0" izz="1.0"/>
    </inertial>
  </link>
  <joint name="l_front_final_track_joint" type="continuous">
    <axis xyz="0.0 1 0.0"/>
    <origin rpy="0.0 0.0 0.0" xyz="0.095 0.0 0.0"/>
    <parent link="l_front_track"/>
    <child link="l_front_ends_track"/>
  </joint>
  <transmission name="l_front_final_track_joint_trans">
    <type>transmission_interface/SimpleTransmission</type>
    <actuator name="front_l_final_track_joint_motor">
      <mechanicalReduction>1</mechanicalReduction>
    </actuator>
    <joint name="l_front_final_track_joint">
      <hardwareInterface>hardware_interface/VelocityJointInterface</hardwareInterface>
      <!-- <hardwareInterface>hardware_interface/PositionJointInterface</hardwareInterface> -->
    </joint>
  </transmission>
  <gazebo reference="l_front_ends_track">
    <mu1 value="200.0"/>
    <mu2 value="100.0"/>
    <kp value="10000000.0"/>
    <kd value="1.0"/>
    <material>Gazebo/Grey</material>
  </gazebo>
  <!-- SHOULDER 1 -->
  <link name="l_back_shoulder_cylinder">
    <visual name="l_back_shoulder_cylinder">
      <origin rpy="0 1.57075 0" xyz="0.0 0.0 0"/>
      <geometry>
        <cylinder length="0.12" radius="0.03"/>
      </geometry>
      <material name="yellow"/>
    </visual>
    <collision>
      <origin rpy="0 1.57075 0" xyz="0.0 0.0 0"/>
      <geometry>
        <cylinder length="0.12" radius="0.03"/>
      </geometry>
    </collision>
    <inertial>
      <mass value="3.5"/>
      <inertia ixx="1.0" ixy="0.0" ixz="0.0" iyy="1.0" iyz="0.0" izz="1.0"/>
    </inertial>
  </link>
  <joint name="l_back_shoulder_to_body" type="revolute">
    <axis xyz="1 0.0 0.0"/>
    <limit effort="1000.0" lower="-1.57075" upper="1.57075" velocity="0.5"/>
    <origin rpy="0 0 0.0" xyz="-0.12 0.0 0.0"/>
    <parent link="left_cylinder"/>
    <child link="l_back_shoulder_cylinder"/>
    <limit effort="30" velocity="1.0"/>
  </joint>
  <transmission name="l_back_shoulder_to_body_trans">
    <type>transmission_interface/SimpleTransmission</type>
    <actuator name="back_l_shoulder_to_body_motor">
      <mechanicalReduction>1</mechanicalReduction>
    </actuator>
    <joint name="l_back_shoulder_to_body">
      <hardwareInterface>hardware_interface/PositionJointInterface</hardwareInterface>
    </joint>
  </transmission>
  <link name="l_back_shoulder_box">
    <visual name="l_back_shoulder_box">
      <origin rpy="0 0 0" xyz=" 0.05 0.0005 0"/>
      <geometry>
        <box size="0.12 0.03 0.06"/>
      </geometry>
      <material name="yellow"/>
    </visual>
    <collision>
      <origin rpy="0 0 0" xyz=" 0.05 0.0005 0"/>
      <geometry>
        <box size="0.12 0.03 0.06"/>
      </geometry>
    </collision>
    <inertial>
      <mass value="0.5"/>
      <inertia ixx="1.0" ixy="0.0" ixz="0.0" iyy="1.0" iyz="0.0" izz="1.0"/>
    </inertial>
  </link>
  <joint name="l_back_shoulder_cyl_to_box" type="fixed">
    <origin rpy="0.0 0.0 0.0" xyz="-0.05 -0.017 0.0"/>
    <parent link="l_back_shoulder_cylinder"/>
    <child link="l_back_shoulder_box"/>
  </joint>
  <!-- SHOULDER 2  -->
  <link name="l_back_shoulder2_base">
    <visual name="l_back_shoulder2_base">
      <origin rpy="0.0 0.0 0.0" xyz="0.015 0.0 0.0"/>
      <geometry>
        <box size="0.05 0.01 0.06"/>
      </geometry>
      <material name="yellow"/>
    </visual>
    <collision>
      <origin rpy="0.0 0.0 0.0" xyz="0.015 0.0 0.0"/>
      <geometry>
        <box size="0.05 0.01 0.06"/>
      </geometry>
    </collision>
    <inertial>
      <mass value="0.5"/>
      <inertia ixx="1.0" ixy="0.0" ixz="0.0" iyy="1.0" iyz="0.0" izz="1.0"/>
    </inertial>
  </link>
  <joint name="l_back_shoulder2_to_shoulder" type="continuous">
    <axis xyz="0.0 1 0.0"/>
    <origin rpy="0.0 0.0 0.0" xyz="0.0 -0.02 0.0"/>
    <parent link="l_back_shoulder_box"/>
    <child link="l_back_shoulder2_base"/>
    <limit effort="30" velocity="1.0"/>
    <dynamics damping="0.0" friction="0.0"/>
  </joint>
  <transmission name="l_back_shoulder2_to_shoulder_trans">
    <type>transmission_interface/SimpleTransmission</type>
    <actuator name="back_l_shoulder2_to_shoulder_motor">
      <mechanicalReduction>1</mechanicalReduction>
    </actuator>
    <joint name="l_back_shoulder2_to_shoulder">
      <hardwareInterface>hardware_interface/PositionJointInterface</hardwareInterface>
    </joint>
  </transmission>
  <link name="l_back_shoulder2_box">
    <visual name="l_back_shoulder2_box">
      <origin rpy="0.0 0.0 0.0" xyz="-0.045 -0.02 0.0"/>
      <geometry>
        <box size="0.11 0.05 0.06"/>
      </geometry>
      <material name="yellow"/>
    </visual>
    <collision>
      <origin rpy="0.0 0.0 0.0" xyz="-0.045 -0.02 0.0"/>
      <geometry>
        <box size="0.11 0.05 0.06"/>
      </geometry>
    </collision>
    <inertial>
      <mass value="3"/>
      <inertia ixx="1.0" ixy="0.0" ixz="0.0" iyy="1.0" iyz="0.0" izz="1.0"/>
    </inertial>
  </link>
  <joint name="l_back_shoulder2_base_to_box" type="fixed">
    <origin rpy="0.0 0.0 0.0" xyz="0.14 0.0 0.0"/>
    <parent link="l_back_shoulder2_base"/>
    <child link="l_back_shoulder2_box"/>
  </joint>
  <!-- KNEE -->
  <link name="l_back_knee_base">
    <visual name="l_back_knee_base">
      <origin rpy="0.0 0.0 0.0" xyz="-0.05 0.0 0.0"/>
      <geometry>
        <box size="0.12 0.01 0.06"/>
      </geometry>
      <material name="yellow"/>
    </visual>
    <collision>
      <origin rpy="0.0 0.0 0.0" xyz="-0.05 0.0 0.0"/>
      <geometry>
        <box size="0.12 0.01 0.06"/>
      </geometry>
    </collision>
    <inertial>
      <mass value="4"/>
      <inertia ixx="1.0" ixy="0.0" ixz="0.0" iyy="1.0" iyz="0.0" izz="1.0"/>
    </inertial>
  </link>
  <joint name="l_back_shoulder2_to_knee" type="continuous">
    <axis xyz="0.0 1 0.0"/>
    <origin rpy="0.0 0.0 0.0" xyz="0.0 -0.052 0.0"/>
    <parent link="l_back_shoulder2_box"/>
    <child link="l_back_knee_base"/>
  </joint>
  <transmission name="l_back_shoulder2_to_knee_trans">
    <type>transmission_interface/SimpleTransmission</type>
    <actuator name="back_l_shoulder2_to_knee_motor">
      <mechanicalReduction>1</mechanicalReduction>
    </actuator>
    <joint name="l_back_shoulder2_to_knee">
      <hardwareInterface>hardware_interface/PositionJointInterface</hardwareInterface>
    </joint>
  </transmission>
  <link name="l_back_knee_box">
    <visual name="l_back_knee_box">
      <origin rpy="0.0 0.0 0.0" xyz="0.03 0.02 0.0"/>
      <geometry>
        <box size="0.08 0.05 0.06"/>
      </geometry>
      <material name="yellow"/>
    </visual>
    <collision>
      <origin rpy="0.0 0.0 0.0" xyz="0.03 0.02 0.0"/>
      <geometry>
        <box size="0.08 0.05 0.06"/>
      </geometry>
    </collision>
    <inertial>
      <mass value="0.5"/>
      <inertia ixx="1.0" ixy="0.0" ixz="0.0" iyy="1.0" iyz="0.0" izz="1.0"/>
    </inertial>
  </link>
  <joint name="l_back_knee_base_to_box" type="fixed">
    <origin rpy="0.0 0.0 0.0" xyz="-0.18 0.0 0.0"/>
    <parent link="l_back_knee_base"/>
    <child link="l_back_knee_box"/>
  </joint>
  <!-- ANKLE & TRACK -->
  <link name="l_back_jointed_track">
    <visual name="l_back_jointed_track">
      <origin rpy="0.0 1.57075 1.57075" xyz="0.0 0.0 0.0"/>
      <geometry>
        <cylinder length="0.05" radius="0.015"/>
      </geometry>
      <material name="yellow"/>
    </visual>
    <collision>
      <origin rpy="0.0 1.57075 1.57075" xyz="0.0 0.0 0.0"/>
      <geometry>
        <cylinder length="0.05" radius="0.015"/>
      </geometry>
    </collision>
    <inertial>
      <mass value="0.5"/>
      <inertia ixx="1.0" ixy="0.0" ixz="0.0" iyy="1.0" iyz="0.0" izz="1.0"/>
    </inertial>
  </link>
  <joint name="l_back_ankle" type="continuous">
    <!--For the movement of the whole track-->
    <axis xyz="0.0 1 0.0"/>
    <origin rpy="0.0 0.0 0.0" xyz="0.0 -0.032 0.0"/>
    <parent link="l_back_knee_box"/>
    <child link="l_back_jointed_track"/>
  </joint>
  <transmission name="l_back_ankle_trans">
    <type>transmission_interface/SimpleTransmission</type>
    <actuator name="back_l_ankle_motor">
      <mechanicalReduction>1</mechanicalReduction>
    </actuator>
    <joint name="l_back_ankle">
      <hardwareInterface>hardware_interface/PositionJointInterface</hardwareInterface>
    </joint>
  </transmission>
  <!--wheels-->
  <link name="l_back_starts_track">
    <visual name="l_back_starts_track">
      <origin rpy="0.0 1.57075 1.57075" xyz="0.0 0.0 0.0"/>
      <geometry>
        <cylinder length="0.05" radius="0.03"/>
      </geometry>
      <material name="yellow"/>
    </visual>
    <collision>
      <origin rpy="0.0 1.57075 1.57075" xyz="0.0 0.0 0.0"/>
      <geometry>
        <cylinder length="0.05" radius="0.03"/>
      </geometry>
    </collision>
    <inertial>
      <mass value="0.5"/>
      <inertia ixx="1.0" ixy="0.0" ixz="0.0" iyy="1.0" iyz="0.0" izz="1.0"/>
    </inertial>
  </link>
  <joint name="l_back_begin_track_joint" type="continuous">
    <axis xyz="0.0 1 0.0"/>
    <origin rpy="0.0 0.0 0.0" xyz="0.0 0 0.0"/>
    <parent link="l_back_jointed_track"/>
    <child link="l_back_starts_track"/>
  </joint>
  <transmission name="l_back_begin_track_joint_trans">
    <type>transmission_interface/SimpleTransmission</type>
    <actuator name="back_l_begin_track_joint_motor">
      <mechanicalReduction>1</mechanicalReduction>
    </actuator>
    <joint name="l_back_begin_track_joint">
      <hardwareInterface>hardware_interface/PositionJointInterface</hardwareInterface>
    </joint>
  </transmission>
  <gazebo reference="l_back_starts_track">
    <mu1 value="200.0"/>
    <mu2 value="100.0"/>
    <kp value="10000000.0"/>
    <kd value="1.0"/>
    <material>Gazebo/Grey</material>
  </gazebo>
  <link name="l_back_track">
    <!-- Between the two wheels -->
    <visual name="l_back_track">
      <origin rpy="0.0 0.0 0.0" xyz="0.0 0.0 0.0"/>
      <geometry>
        <box size="0.190 0.04 0.06"/>
      </geometry>
      <material name="yellow"/>
    </visual>
    <collision>
      <origin rpy="0.0 0.0 0.0" xyz="0.0 0.0 0.0"/>
      <geometry>
        <box size="0.190 0.04 0.06"/>
      </geometry>
    </collision>
    <inertial>
      <mass value="4.5"/>
      <inertia ixx="1.0" ixy="0.0" ixz="0.0" iyy="1.0" iyz="0.0" izz="1.0"/>
    </inertial>
  </link>
  <joint name="l_back_jointed_track_to_track" type="fixed">
    <origin rpy="0.0 3.1415 0.0" xyz="0.095 0.0 0.0"/>
    <parent link="l_back_jointed_track"/>
    <child link="l_back_track"/>
  </joint>
  <link name="l_back_ends_track">
    <visual name="l_back_ends_track">
      <origin rpy="0.0 1.57075 1.57075" xyz="0.0 0.0 0.0"/>
      <geometry>
        <cylinder length="0.05" radius="0.03"/>
      </geometry>
      <material name="yellow"/>
    </visual>
    <collision>
      <origin rpy="0.0 1.57075 1.57075" xyz="0.0 0.0 0.0"/>
      <geometry>
        <cylinder length="0.05" radius="0.03"/>
      </geometry>
    </collision>
    <inertial>
      <mass value="0.5"/>
      <inertia ixx="1.0" ixy="0.0" ixz="0.0" iyy="1.0" iyz="0.0" izz="1.0"/>
    </inertial>
  </link>
  <joint name="l_back_final_track_joint" type="continuous">
    <axis xyz="0.0 1 0.0"/>
    <origin rpy="0.0 0.0 0.0" xyz="-0.095 0.0 0.0"/>
    <parent link="l_back_track"/>
    <child link="l_back_ends_track"/>
  </joint>
  <transmission name="l_back_final_track_joint_trans">
    <type>transmission_interface/SimpleTransmission</type>
    <actuator name="back_l_final_track_joint_motor">
      <mechanicalReduction>1</mechanicalReduction>
    </actuator>
    <joint name="l_back_final_track_joint">
      <hardwareInterface>hardware_interface/VelocityJointInterface</hardwareInterface>
      <!-- <hardwareInterface>hardware_interface/PositionJointInterface</hardwareInterface> -->
    </joint>
  </transmission>
  <gazebo reference="l_back_ends_track">
    <mu1 value="200.0"/>
    <mu2 value="100.0"/>
    <kp value="10000000.0"/>
    <kd value="1.0"/>
    <material>Gazebo/Grey</material>
  </gazebo>
  <!-- Gazebo plugin for ROS Control -->
  <gazebo>
    <plugin filename="libgazebo_ros_control.so" name="gazebo_ros_control">
      <robotNamespace>/cricket</robotNamespace>
      <robotSimType>gazebo_ros_control/DefaultRobotHWSim</robotSimType>
    </plugin>
  </gazebo>
</robot>
